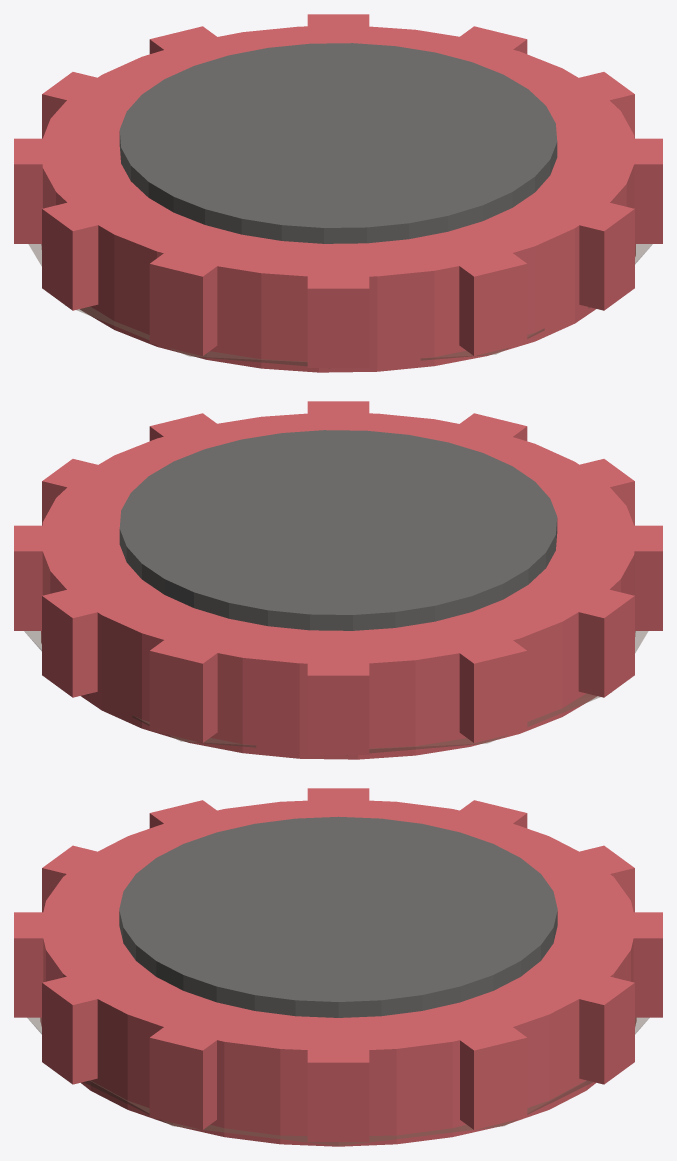
Rendered from env_bottle_cap_red_v1.glb.
3 renders of one model, top to bottom at view 1: azimuth 30°, elevation 25°; view 2: azimuth 150°, elevation 25°; view 3: azimuth 270°, elevation 25°, orthographic.
Parts seen in each view (by area): view 1: cap_outer_rim, cap_inner_recess, cap_ridge_03, cap_ridge_05, cap_ridge_04, cap_ridge_06, cap_ridge_02, cap_ridge_07, cap_ridge_01, cap_shadow, cap_ridge_08, cap_ridge_00 (+3 smaller); view 2: cap_outer_rim, cap_inner_recess, cap_ridge_09, cap_ridge_07, cap_ridge_08, cap_ridge_06, cap_ridge_10, cap_ridge_05, cap_ridge_11, cap_shadow, cap_ridge_04, cap_ridge_00 (+3 smaller); view 3: cap_outer_rim, cap_inner_recess, cap_ridge_01, cap_ridge_11, cap_ridge_00, cap_ridge_10, cap_ridge_02, cap_ridge_03, cap_ridge_09, cap_shadow, cap_ridge_04, cap_ridge_08 (+3 smaller).
Part boxes in pixels (bbox=[...]): cap_outer_rim: bbox=[41, 25, 635, 372]; cap_inner_recess: bbox=[119, 43, 557, 243]; cap_ridge_03: bbox=[457, 252, 527, 355]; cap_ridge_05: bbox=[149, 253, 217, 355]; cap_ridge_04: bbox=[307, 273, 369, 367]; cap_ridge_06: bbox=[42, 202, 102, 310]; cap_ridge_02: bbox=[579, 201, 634, 310]; cap_ridge_07: bbox=[14, 138, 48, 243]; cap_ridge_01: bbox=[628, 138, 662, 243]; cap_shadow: bbox=[28, 244, 652, 368]; cap_ridge_08: bbox=[42, 72, 96, 138]; cap_ridge_00: bbox=[574, 72, 634, 138]; cap_outer_rim: bbox=[41, 412, 635, 759]; cap_inner_recess: bbox=[119, 430, 557, 630]; cap_ridge_09: bbox=[149, 638, 219, 742]; cap_ridge_07: bbox=[458, 640, 527, 742]; cap_ridge_08: bbox=[307, 660, 369, 754]; cap_ridge_06: bbox=[574, 589, 634, 697]; cap_ridge_10: bbox=[42, 588, 97, 697]; cap_ridge_05: bbox=[628, 525, 662, 630]; cap_ridge_11: bbox=[14, 525, 48, 630]; cap_shadow: bbox=[24, 631, 648, 755]; cap_ridge_04: bbox=[580, 459, 634, 525]; cap_ridge_00: bbox=[42, 459, 102, 525]; cap_outer_rim: bbox=[40, 799, 636, 1146]; cap_inner_recess: bbox=[119, 816, 557, 1017]; cap_ridge_01: bbox=[149, 1025, 219, 1129]; cap_ridge_11: bbox=[457, 1025, 527, 1129]; cap_ridge_00: bbox=[307, 1048, 369, 1141]; cap_ridge_10: bbox=[579, 975, 634, 1084]; cap_ridge_02: bbox=[42, 975, 97, 1084]; cap_ridge_03: bbox=[14, 912, 48, 1017]; cap_ridge_09: bbox=[628, 912, 662, 1017]; cap_shadow: bbox=[27, 1017, 649, 1146]; cap_ridge_04: bbox=[42, 845, 101, 912]; cap_ridge_08: bbox=[576, 845, 634, 912].
Bounding box in the file's own units: 0.74 × 0.14 × 0.74.
